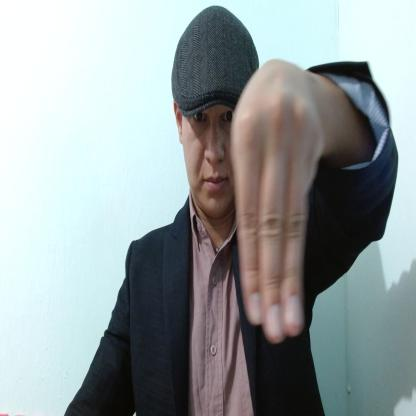M: (232, 63, 327, 344)
